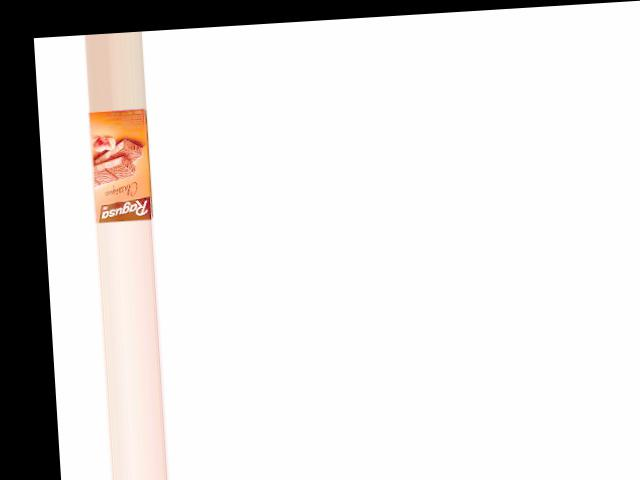chocolate: (81, 107, 156, 222)
